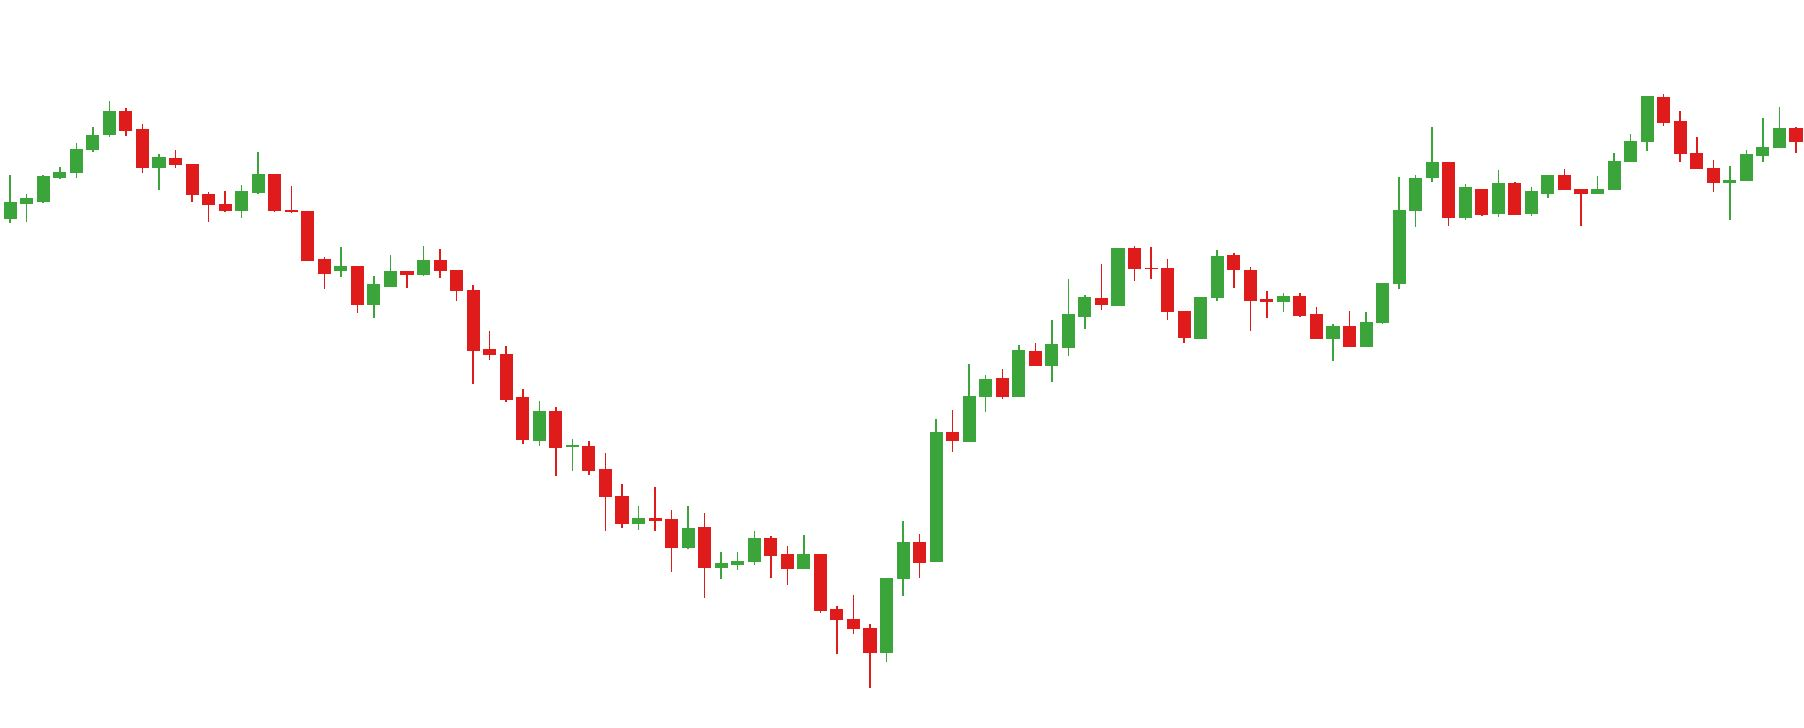sell: (1424, 91, 1688, 181)
